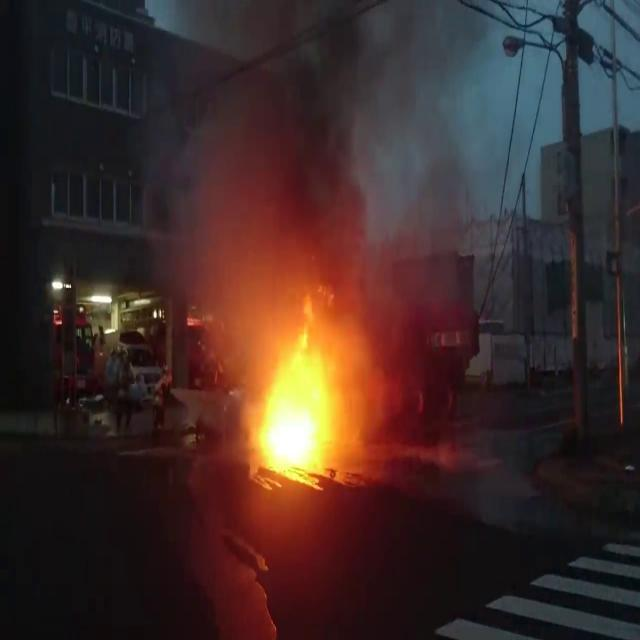Fire: (251, 333, 340, 466)
